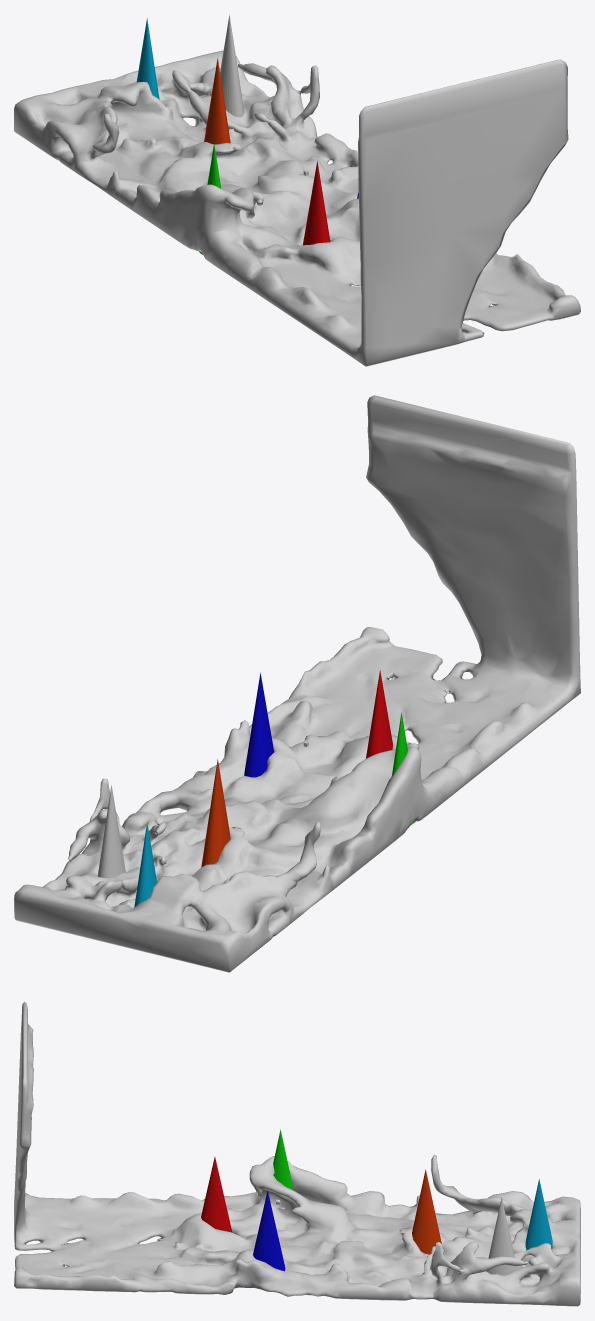
3 renders of one model, top to bottom at view 1: azimuth 30°, elevation 25°; view 2: azimuth 150°, elevation 25°; view 3: azimuth 270°, elevation 25°, orthographic. The views are drawn at different scales.
Visible parts, largest first — view 1: Liquid_Domain, 円錐, 円錐.004, 円錐.001, 円錐.005; view 2: Liquid_Domain, 円錐.002, 円錐.004, 円錐, 円錐.001, 円錐.005; view 3: Liquid_Domain, 円錐.004, 円錐.002, 円錐.001, 円錐, 円錐.005, 円錐.003.
Part boxes in pixels (x1=…): Liquid_Domain: x1=14, y1=50, x2=580, y2=366; 円錐: x1=220, y1=14, x2=244, y2=117; 円錐.004: x1=204, y1=58, x2=230, y2=144; 円錐.001: x1=303, y1=161, x2=330, y2=245; 円錐.005: x1=136, y1=18, x2=159, y2=99; Liquid_Domain: x1=14, y1=395, x2=580, y2=972; 円錐.002: x1=244, y1=672, x2=274, y2=777; 円錐.004: x1=201, y1=759, x2=230, y2=866; 円錐: x1=97, y1=785, x2=125, y2=878; 円錐.001: x1=366, y1=670, x2=392, y2=758; 円錐.005: x1=134, y1=822, x2=156, y2=907; Liquid_Domain: x1=14, y1=1001, x2=580, y2=1306; 円錐.004: x1=412, y1=1169, x2=443, y2=1254; 円錐.002: x1=253, y1=1190, x2=285, y2=1271; 円錐.001: x1=201, y1=1156, x2=232, y2=1232; 円錐: x1=486, y1=1197, x2=516, y2=1275; 円錐.005: x1=525, y1=1179, x2=552, y2=1250; 円錐.003: x1=273, y1=1130, x2=293, y2=1190.
Bounding box in the file's own units: 129 × 158 × 361.
